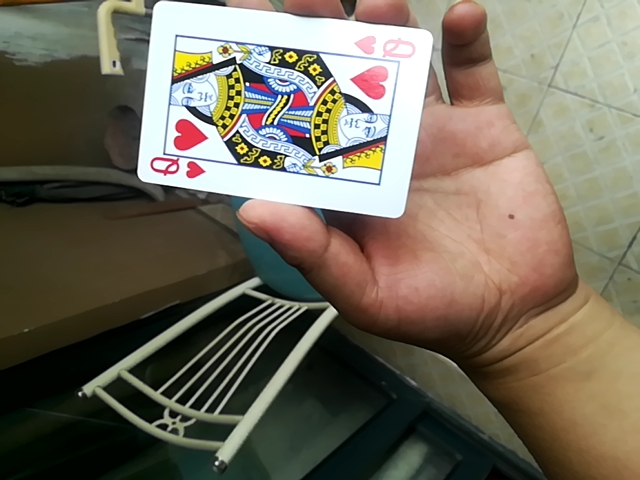hx q: (139, 1, 438, 222)
